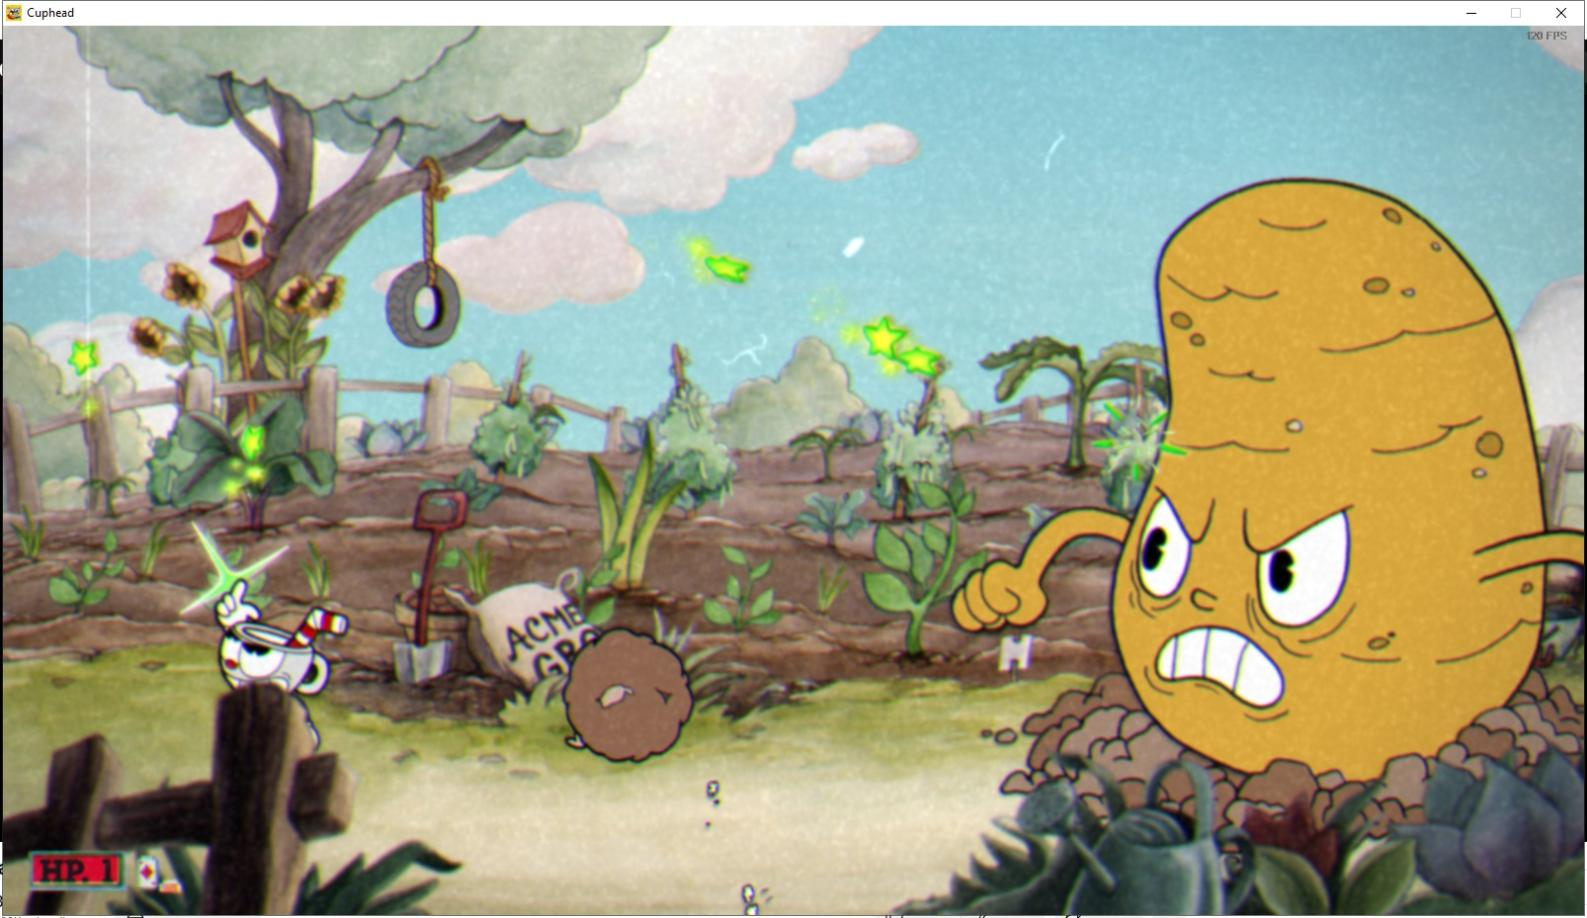dirt: (563, 620, 692, 762)
hp1: (92, 848, 123, 893)
player: (198, 587, 354, 780)
potato_boss: (1105, 173, 1559, 775)
